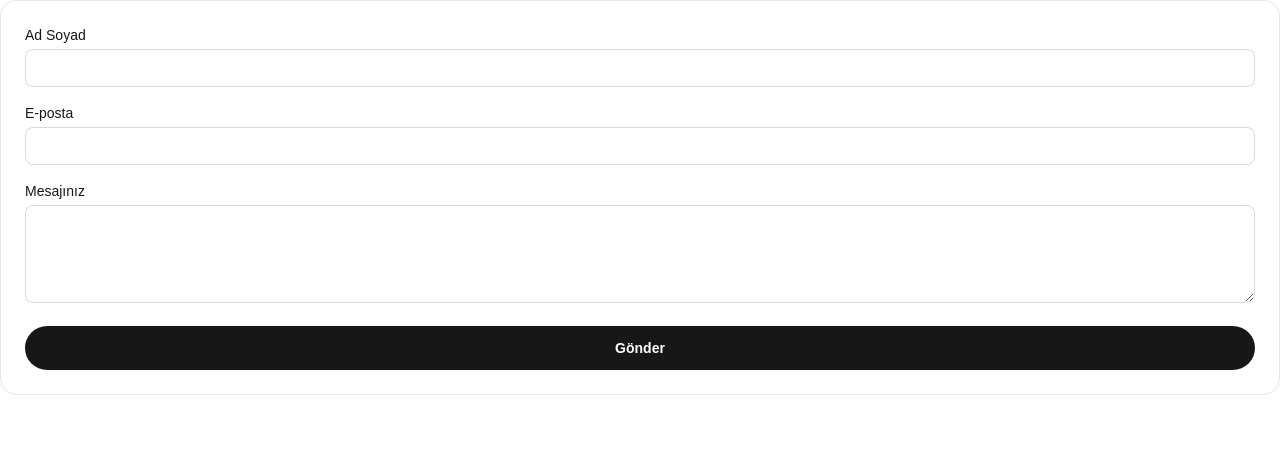
Test: ContactForm (emailEnabled) › boş gönderimde doğrulama hataları gösterir ve action'ı çağırmaz
Click the button "Gönder". click: x=640, y=348
box: [25, 326, 1255, 370]
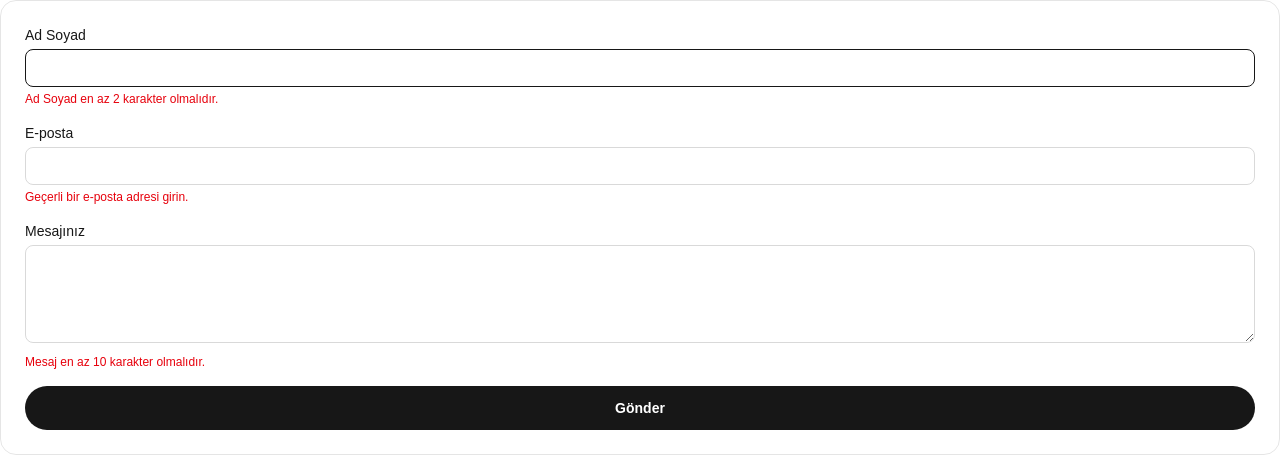
Check: the text "Ad Soyad en az 2 karakter olmalıdır." is shown, box [25, 92, 218, 106]
Check: the text "Geçerli bir e-posta adresi girin." is shown, box [25, 190, 188, 204]
